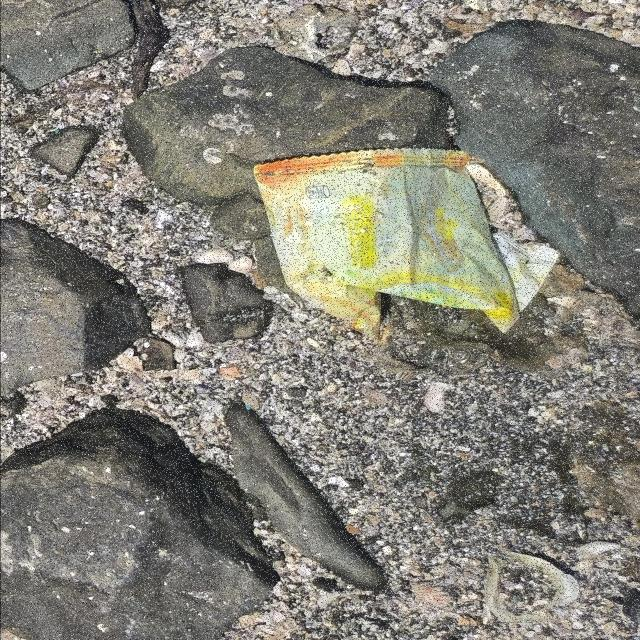plastic_waste: (252, 147, 561, 344)
